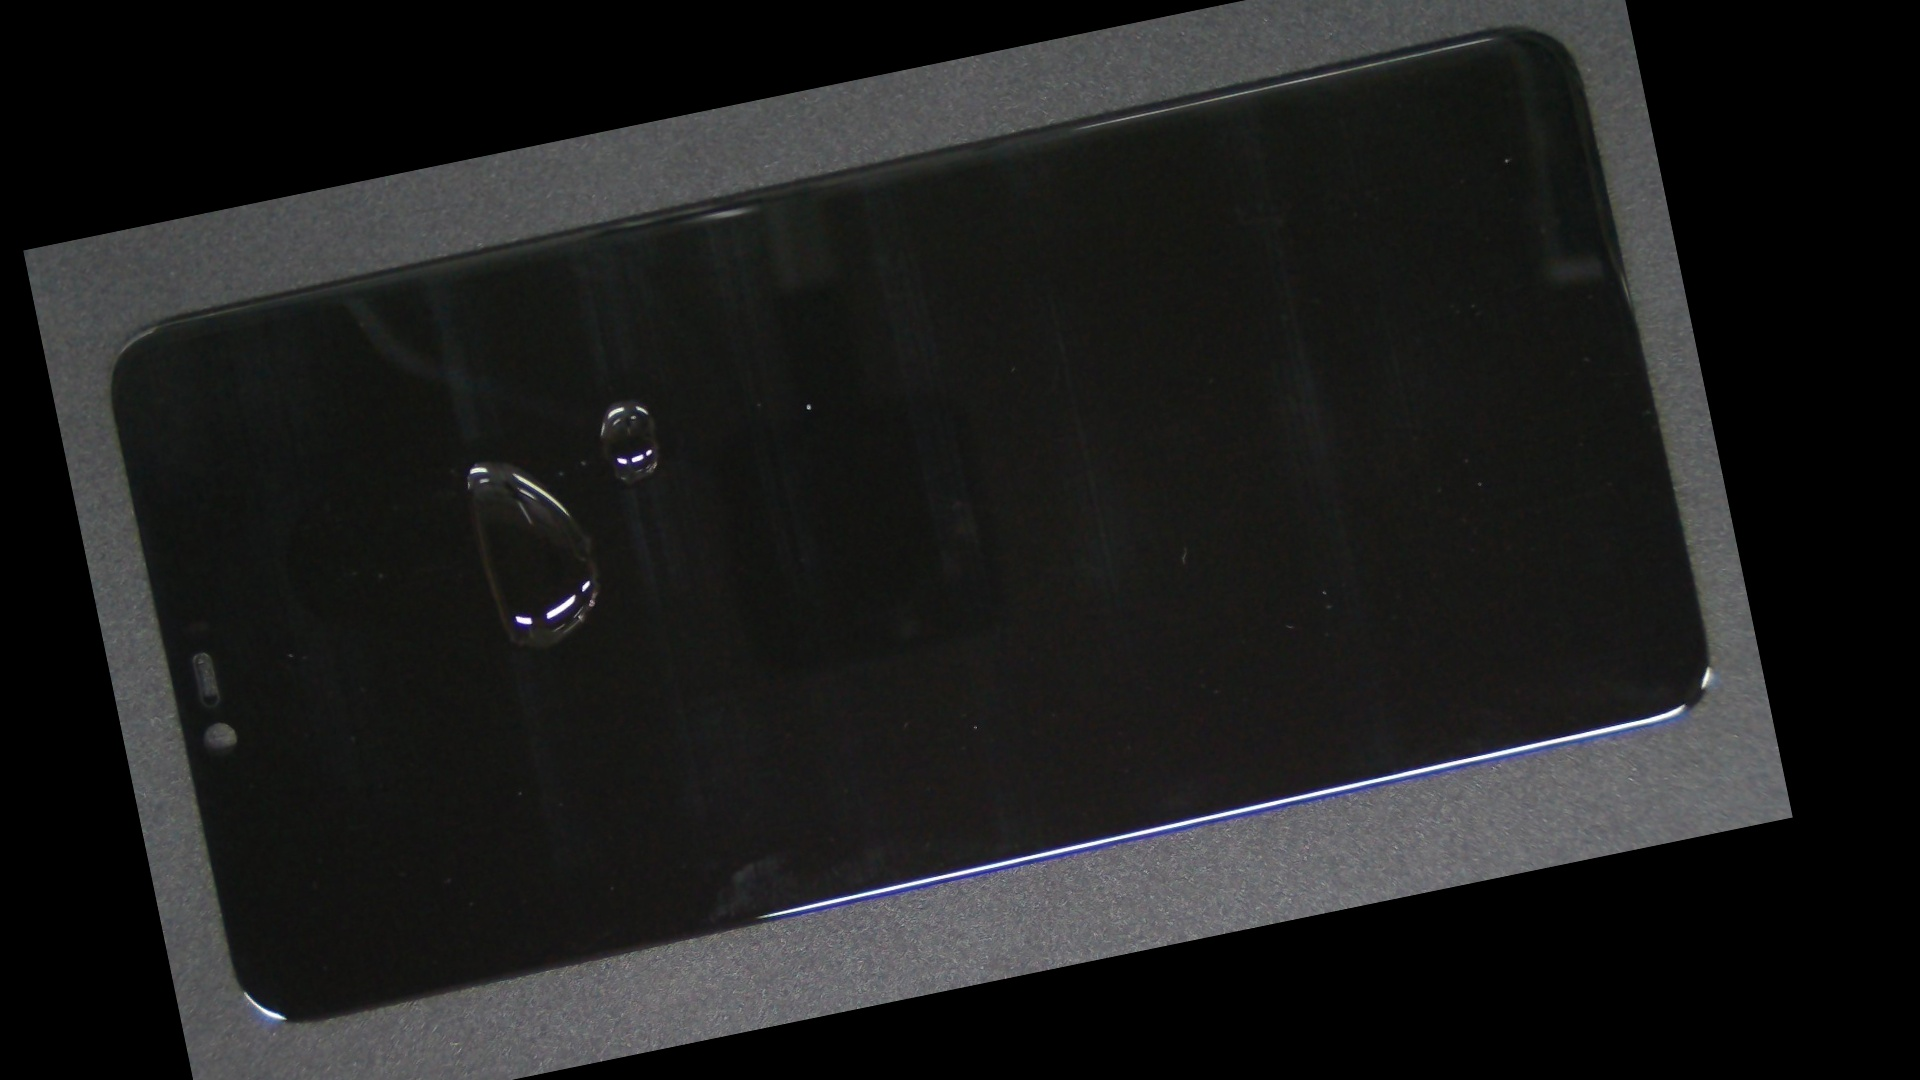oil: (324, 212, 924, 585), (249, 276, 702, 649)
